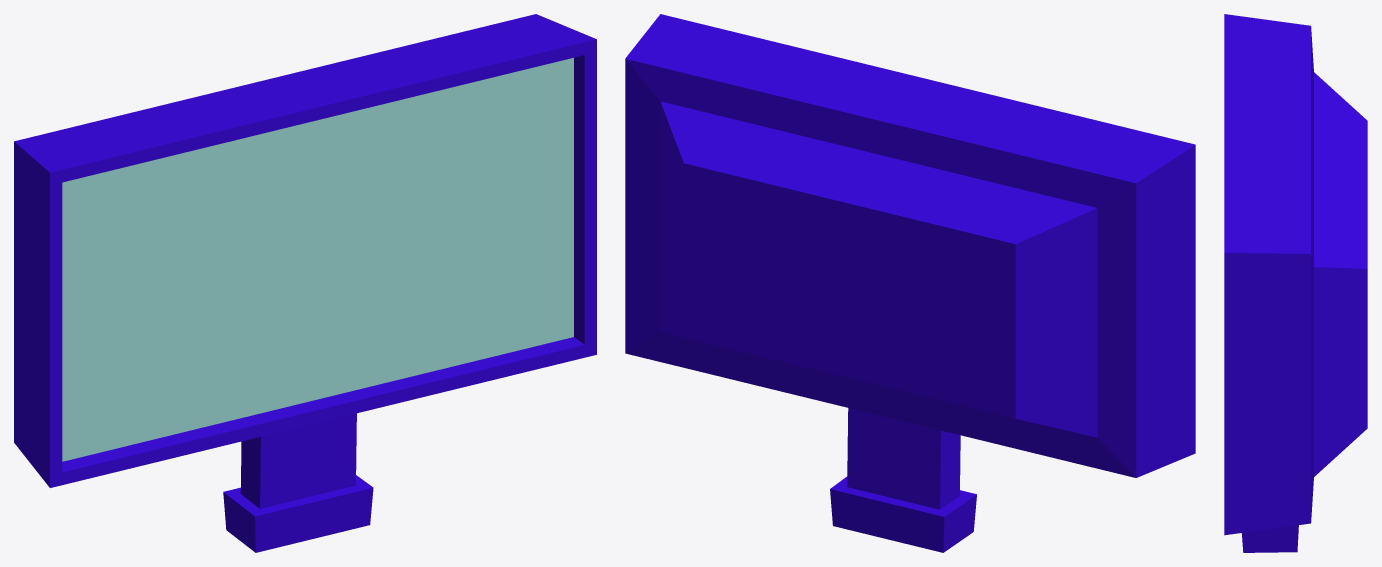
The model's file is tele - Copy.fbx.
3 renders of one model, left to right at view 1: azimuth 30°, elevation 25°; view 2: azimuth 150°, elevation 25°; view 3: azimuth 270°, elevation 25°, orthographic. The views are drawn at different scales.
Visible parts, largest first — view 1: Cube.006; view 2: Cube.006; view 3: Cube.006.
Boxes of the visible parts, bbox=[...] form: Cube.006: bbox=[14, 14, 596, 552]; Cube.006: bbox=[625, 14, 1195, 552]; Cube.006: bbox=[1224, 14, 1367, 552].
Size of the model in its own units: 605 by 466 by 153.
